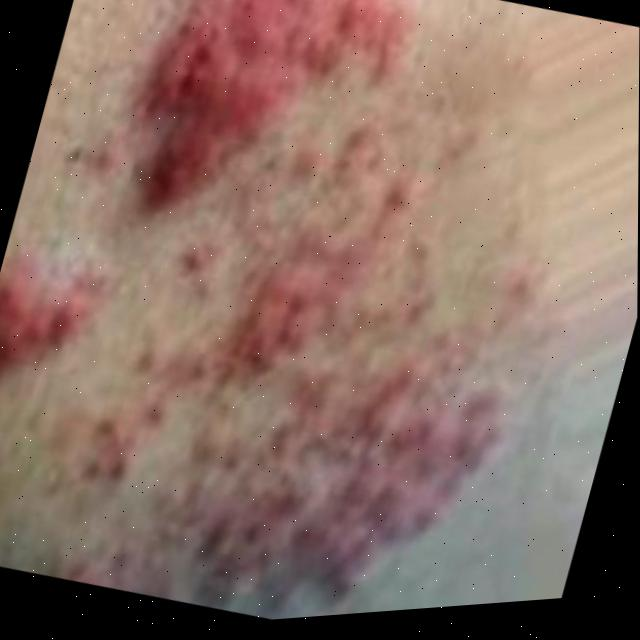Shingles: (144, 247, 516, 629), (114, 0, 406, 262), (0, 245, 98, 393)
